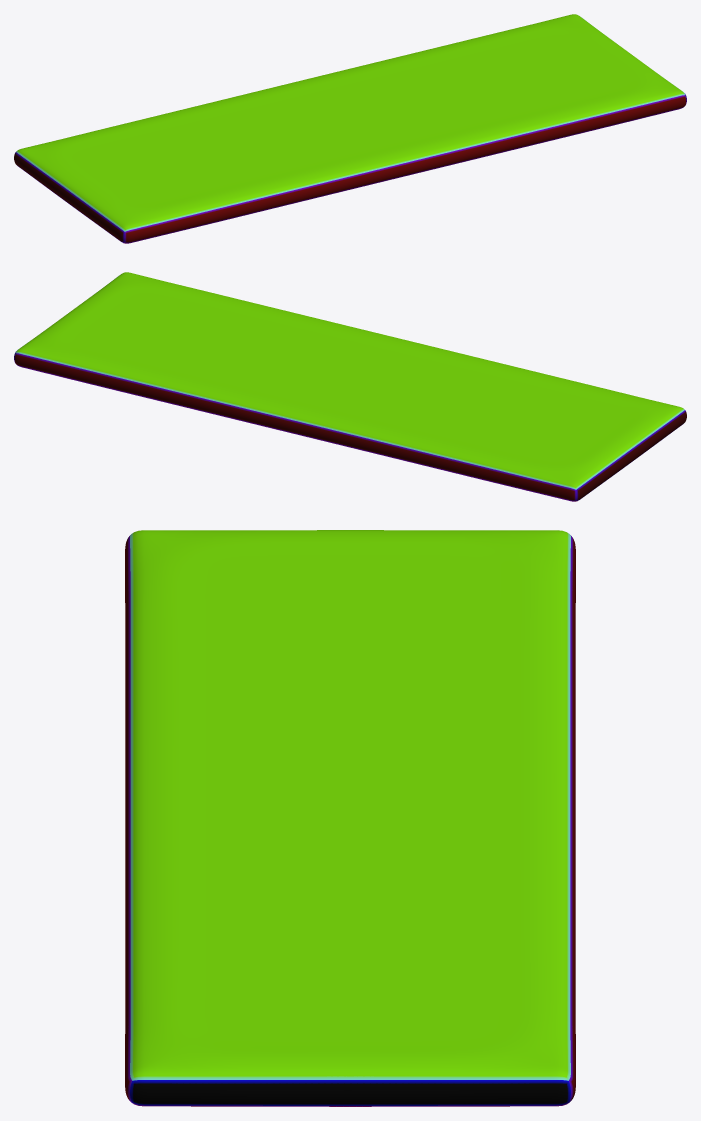
The picture shows the model from 3 angles, top to bottom: view 1: azimuth 30°, elevation 25°; view 2: azimuth 150°, elevation 25°; view 3: azimuth 270°, elevation 25°; orthographic projection. The views are drawn at different scales.
Visible parts, largest first — view 1: kb_base; view 2: kb_base; view 3: kb_base.
Part boxes in pixels (x1,y1,x2,y2): kb_base: [14, 14, 686, 243]; kb_base: [14, 272, 686, 501]; kb_base: [125, 530, 575, 1106].
Size of the model in its own units: 12.23 by 0.4011 by 4.22.
